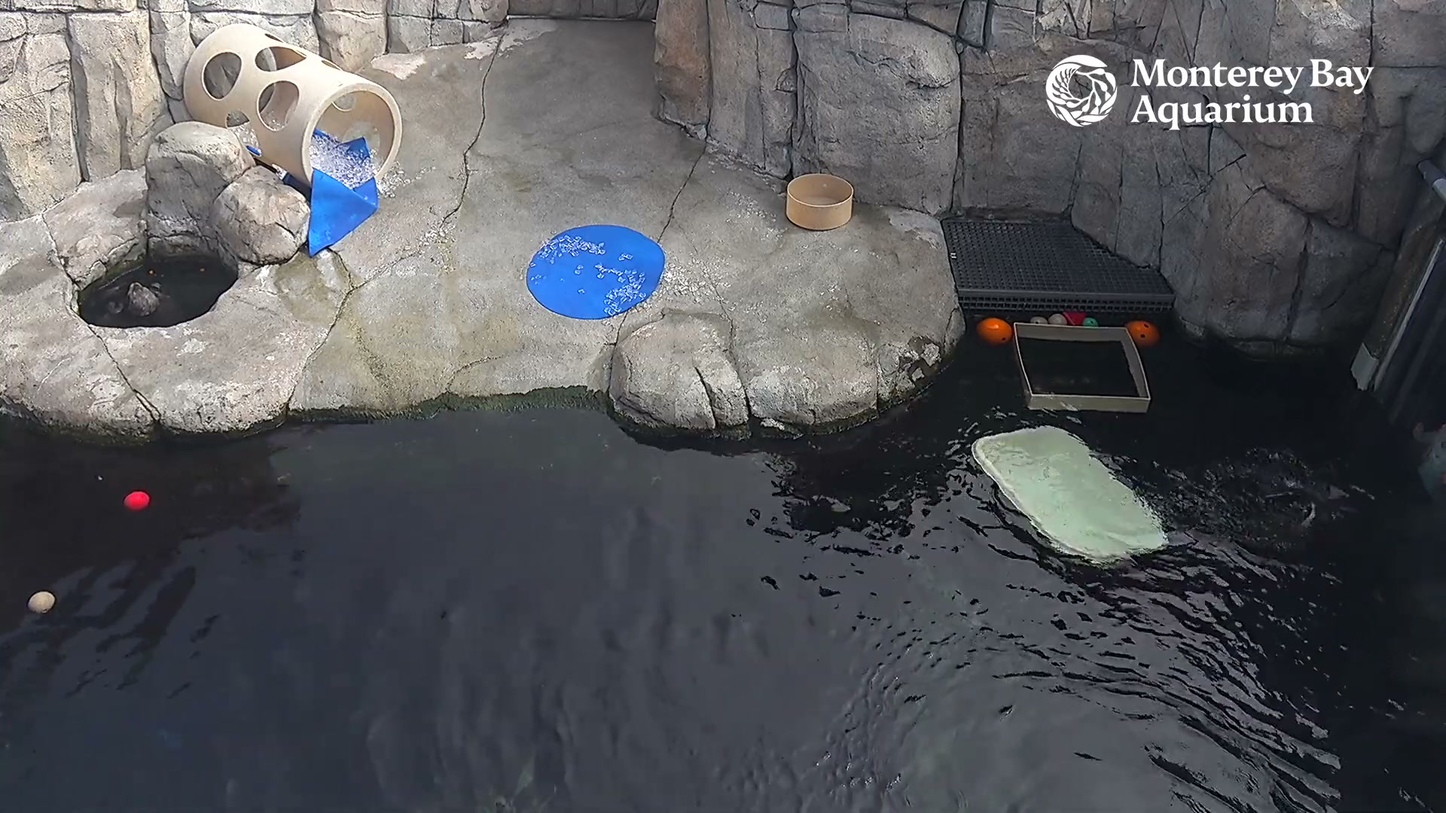Southern Sea Otter: (92, 252, 194, 341)
